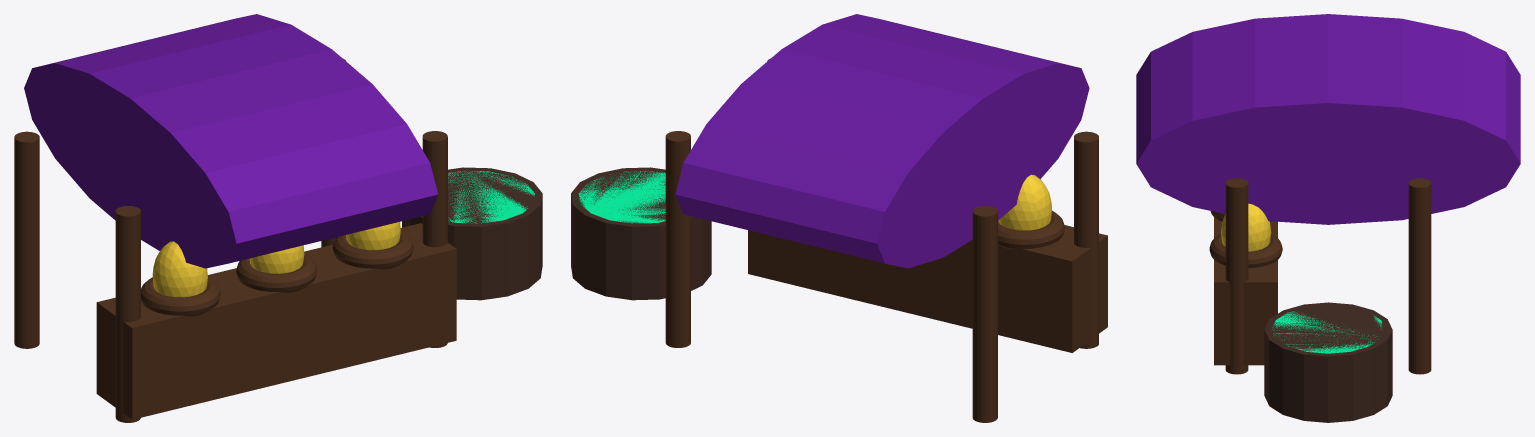
Rendered from Puesto_Mercado_Spectacular.obj.
3 renders of one model, left to right at view 1: azimuth 30°, elevation 25°; view 2: azimuth 150°, elevation 25°; view 3: azimuth 270°, elevation 25°, orthographic. The views are drawn at different scales.
Visible parts, largest first — view 1: Striped_Canopy, Market_Counter, Alchemist_Cauldron, Market_Post_-3.5_2.0, Market_Post_-3.5_-2.0, Potion_Liquid, Market_Post_3.5_-2.0, Pet_Egg_1, Nest_1, Nest_3, Nest_2, Pet_Egg_3 (+1 smaller); view 2: Striped_Canopy, Market_Counter, Alchemist_Cauldron, Market_Post_-3.5_2.0, Market_Post_3.5_2.0, Market_Post_-3.5_-2.0, Potion_Liquid, Pet_Egg_1, Nest_1; view 3: Striped_Canopy, Alchemist_Cauldron, Market_Counter, Market_Post_3.5_2.0, Market_Post_3.5_-2.0, Potion_Liquid, Nest_3, Pet_Egg_3.
Part boxes in pixels (x1,y1,x2,y2): Striped_Canopy: [24, 14, 438, 268]; Market_Counter: [96, 223, 456, 419]; Alchemist_Cauldron: [402, 167, 542, 300]; Market_Post_-3.5_2.0: [14, 131, 39, 348]; Market_Post_-3.5_-2.0: [115, 206, 140, 422]; Potion_Liquid: [448, 171, 534, 223]; Market_Post_3.5_-2.0: [422, 131, 447, 347]; Pet_Egg_1: [152, 241, 207, 297]; Nest_1: [141, 277, 220, 316]; Nest_3: [332, 230, 413, 269]; Nest_2: [236, 254, 316, 292]; Pet_Egg_3: [346, 222, 400, 250]; Striped_Canopy: [675, 14, 1089, 268]; Market_Counter: [748, 225, 1107, 352]; Alchemist_Cauldron: [571, 167, 711, 300]; Market_Post_-3.5_2.0: [972, 206, 997, 422]; Market_Post_3.5_2.0: [665, 131, 690, 347]; Market_Post_-3.5_-2.0: [1074, 131, 1098, 348]; Potion_Liquid: [578, 170, 665, 223]; Pet_Egg_1: [998, 174, 1051, 230]; Nest_1: [998, 210, 1064, 249]; Striped_Canopy: [1136, 14, 1520, 224]; Alchemist_Cauldron: [1264, 302, 1392, 422]; Market_Counter: [1214, 217, 1277, 365]; Market_Post_3.5_2.0: [1408, 178, 1431, 374]; Market_Post_3.5_-2.0: [1225, 178, 1248, 374]; Potion_Liquid: [1272, 311, 1382, 353]; Nest_3: [1209, 233, 1282, 267]; Pet_Egg_3: [1221, 203, 1271, 251].
Bounding box in the file's own units: 10.65 × 5.87 × 8.4.
